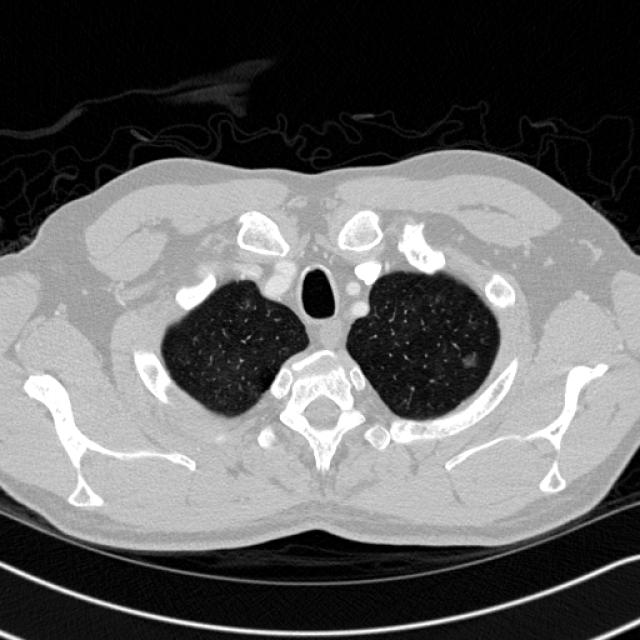nodule: (453, 344, 485, 376)
